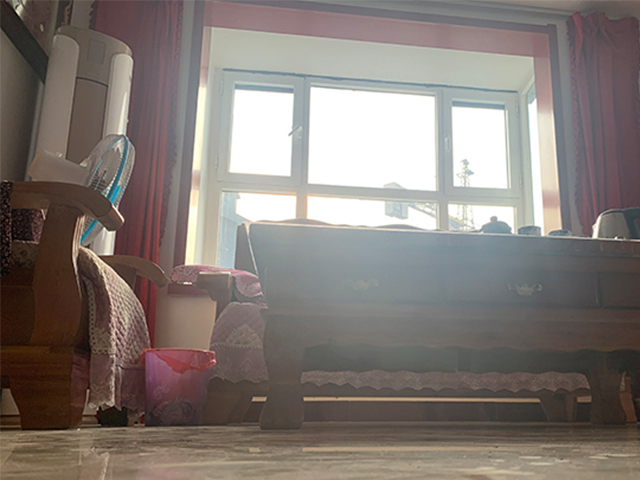sofa: (1, 179, 169, 431)
table: (248, 222, 639, 431)
trashcan: (141, 348, 217, 427)
